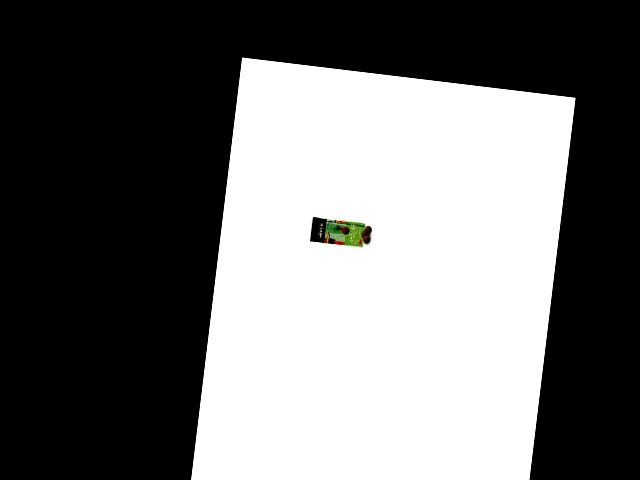chocolate: (307, 210, 367, 251)
